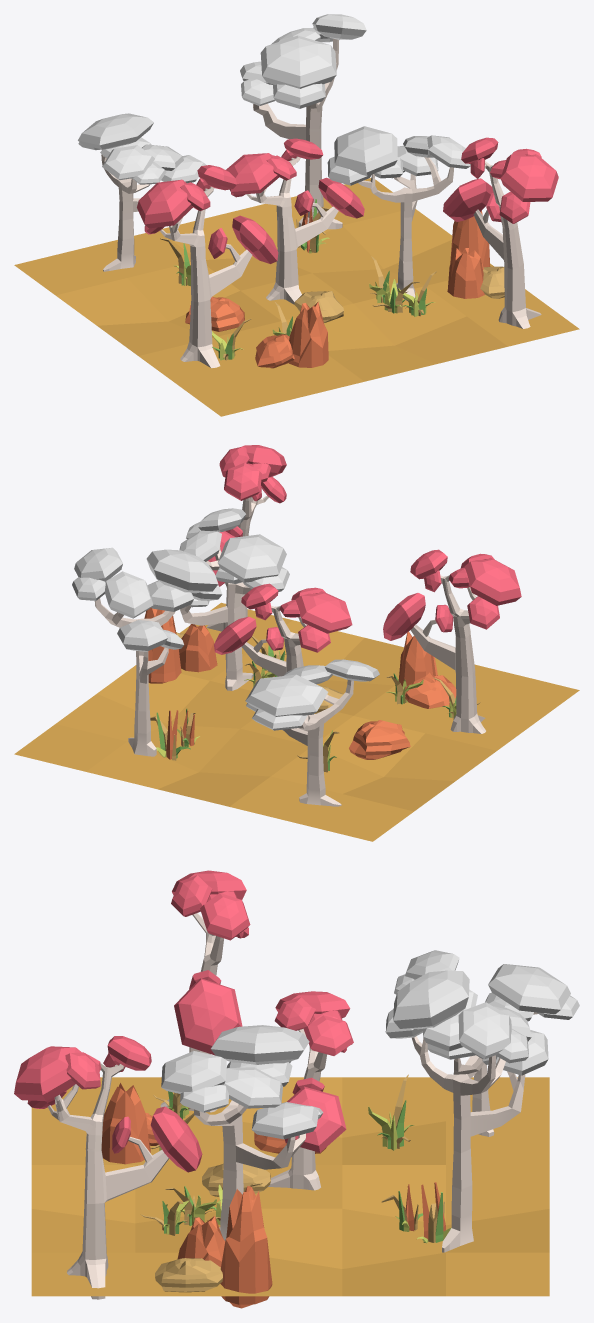
File: floortile_1_new (1).fbx
3 views of the same model, one above another, from view 1: azimuth 30°, elevation 25°; view 2: azimuth 150°, elevation 25°; view 3: azimuth 270°, elevation 25° (orthographic). The views are drawn at different scales.
Visible parts, largest first — view 1: tile, bladeren_pasted__left_leafs_bladeren_pasted__tree_bladeren_g (×11), stam_3, stam, pCylinder1_11, stam_2, pCylinder1_10, pasted__pSphere6, steen_3, pasted__pSphere6_3, pCylinder1_4, steen_3_2 (+17 smaller); view 2: tile, bladeren_pasted__left_leafs_bladeren_pasted__tree_bladeren_g (×10), bladeren_pasted__pSphere3_bladeren_pasted__left_leafs_blader (×3), stam_3, pCylinder1_4, pCylinder1_10, pCylinder1_11, pasted__pSphere6_3, steen_4, pasted__pSphere6_2, steen_3_2, pasted__pSphere3_3 (+14 smaller); view 3: tile, bladeren_pasted__left_leafs_bladeren_pasted__tree_bladeren_g (×12), pCylinder1_10, stam, steen_3_1, pCylinder1_11, pasted__pSphere3_3, pasted__pSphere6, steen_3, pasted__pSphere3, bladeren_pasted__pSphere3_bladeren_pasted__left_leafs_blader, upper_part (+15 smaller).
Boxes of the visible parts, left/top/right/bottom form: tile: left=14, top=178, right=579, bottom=416; bladeren_pasted__left_leafs_bladeren_pasted__tree_bladeren_g (×11): left=78, top=14, right=470, bottom=185; stam_3: left=180, top=244, right=252, bottom=368; stam: left=473, top=209, right=541, bottom=328; pCylinder1_11: left=358, top=157, right=453, bottom=301; stam_2: left=266, top=203, right=338, bottom=304; pCylinder1_10: left=253, top=38, right=342, bottom=229; pasted__pSphere6: left=500, top=154, right=558, bottom=201; steen_3: left=289, top=302, right=328, bottom=367; pasted__pSphere6_3: left=137, top=179, right=192, bottom=228; pCylinder1_4: left=101, top=149, right=149, bottom=271; steen_3_2: left=447, top=248, right=484, bottom=298; tile: left=14, top=602, right=579, bottom=841; bladeren_pasted__left_leafs_bladeren_pasted__tree_bladeren_g (×10): left=72, top=508, right=379, bottom=730; bladeren_pasted__pSphere3_bladeren_pasted__left_leafs_blader (×3): left=104, top=530, right=332, bottom=684; stam_3: left=410, top=620, right=485, bottom=733; pCylinder1_4: left=283, top=680, right=353, bottom=806; pCylinder1_10: left=94, top=598, right=174, bottom=756; pCylinder1_11: left=180, top=547, right=253, bottom=690; pasted__pSphere6_3: left=464, top=557, right=521, bottom=605; steen_4: left=349, top=720, right=410, bottom=759; pasted__pSphere6_2: left=295, top=591, right=352, bottom=633; steen_3_2: left=179, top=624, right=217, bottom=672; pasted__pSphere3_3: left=383, top=593, right=425, bottom=640; tile: left=31, top=1077, right=549, bottom=1296; bladeren_pasted__left_leafs_bladeren_pasted__tree_bladeren_g (×12): left=161, top=950, right=570, bottom=1139; pCylinder1_10: left=412, top=1036, right=525, bottom=1252; stam: left=67, top=1137, right=168, bottom=1299; steen_3_1: left=220, top=1186, right=272, bottom=1308; pCylinder1_11: left=194, top=1100, right=305, bottom=1240; pasted__pSphere3_3: left=174, top=978, right=242, bottom=1055; pasted__pSphere6: left=14, top=1046, right=81, bottom=1101; steen_3: left=101, top=1083, right=150, bottom=1164; pasted__pSphere3: left=150, top=1106, right=202, bottom=1172; bladeren_pasted__pSphere3_bladeren_pasted__left_leafs_blader: left=223, top=1067, right=282, bottom=1108; upper_part: left=48, top=1063, right=124, bottom=1151.
Bounding box in the file's own units: 51.28 × 28.6 × 54.64.
